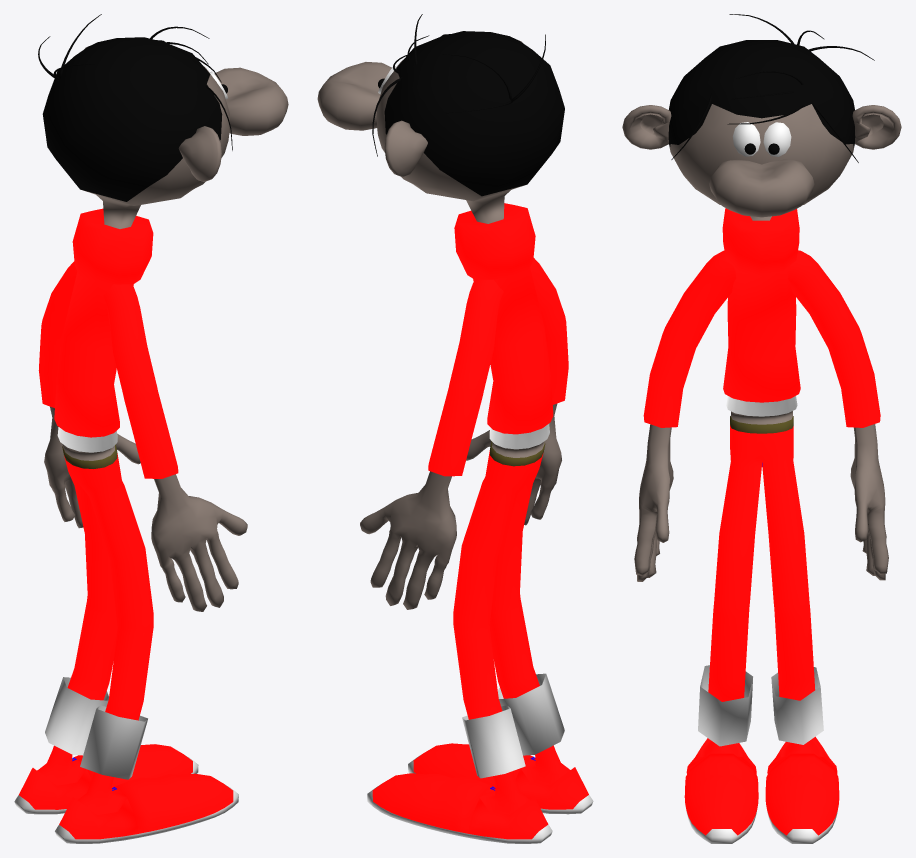
The model's file is spectator_red_tall.dae.
3 renders of one model, left to right at view 1: azimuth 30°, elevation 25°; view 2: azimuth 150°, elevation 25°; view 3: azimuth 270°, elevation 25°, orthographic.
Visible parts, largest first — view 1: Spectator; view 2: Spectator; view 3: Spectator.
Part boxes in pixels (x1,y1,x2,y2): Spectator: [14, 14, 288, 843]; Spectator: [317, 14, 593, 843]; Spectator: [622, 14, 901, 843].
Bounding box in the file's own units: 0.6596 × 0.662 × 2.
